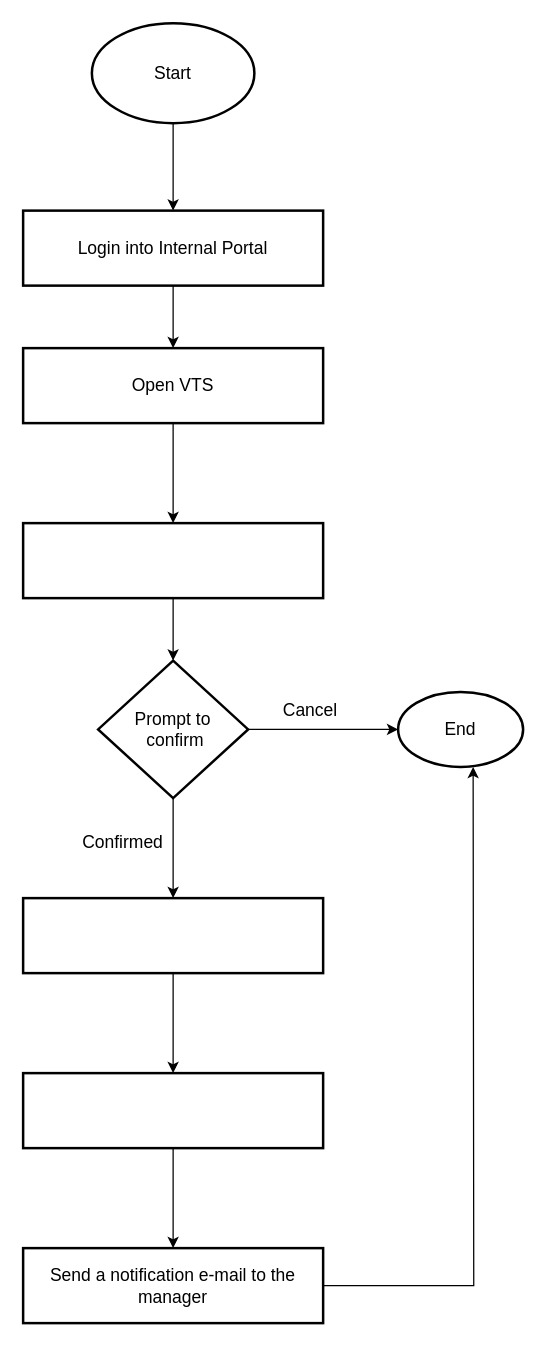
The diagram is 545 pixels wide and 1345 high, and some of its shapes have lost their labels. The centre of each missing label's shape, as x and y in pixels:
Remove from the manager’s list of pending approvals: pixel 172 1110
Select a vacation time request to withdraw: pixel 172 560
Update the request state to withdrawn: pixel 172 935
